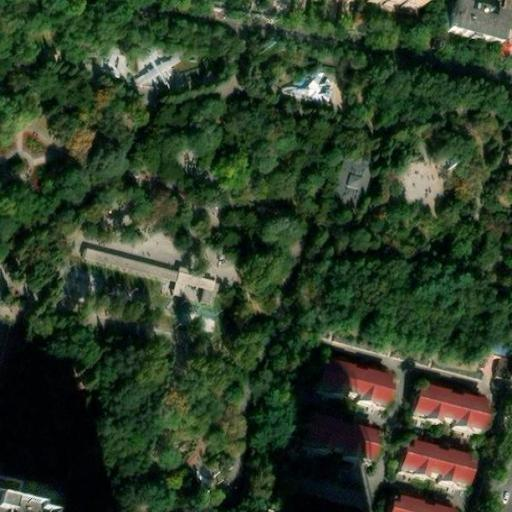building: (82, 241, 218, 294), (303, 412, 378, 468), (319, 360, 393, 416), (413, 386, 488, 441), (397, 443, 472, 498), (55, 261, 96, 315), (294, 483, 358, 512), (481, 338, 512, 379)
